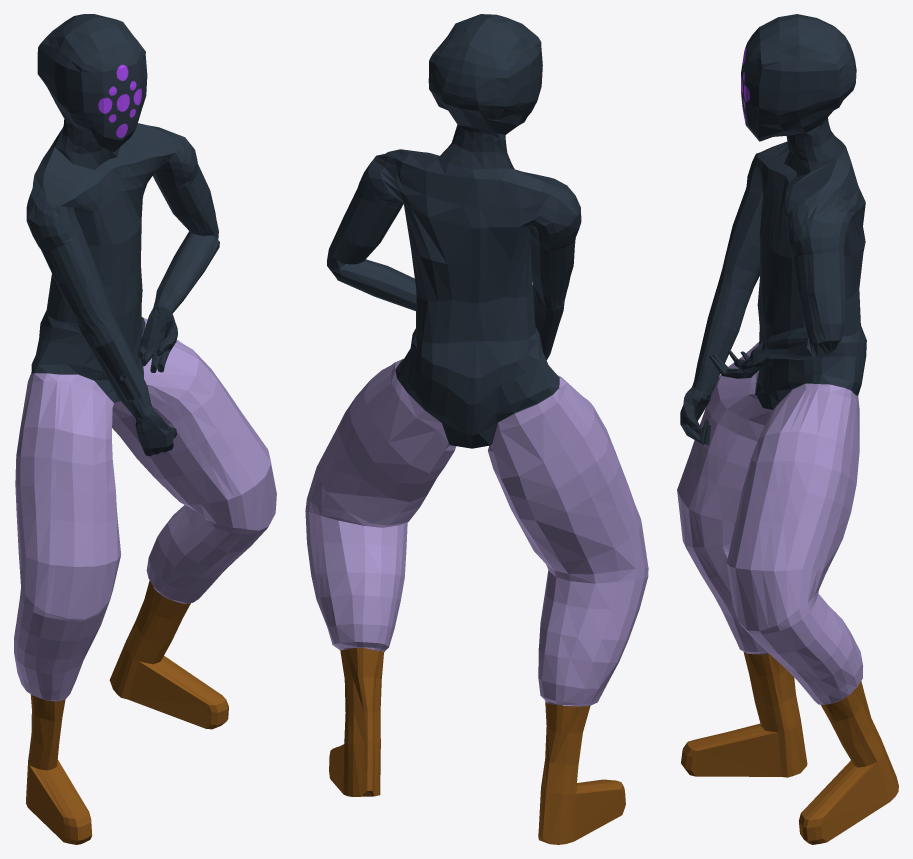
The model's file is Oracle_WL_000010.obj.
The picture shows the model from 3 angles, left to right: view 1: azimuth 30°, elevation 25°; view 2: azimuth 150°, elevation 25°; view 3: azimuth 270°, elevation 25°; orthographic projection. The views are drawn at different scales.
Parts seen in each view (by area): view 1: Cube; view 2: Cube; view 3: Cube.
Boxes of the visible parts, bbox=[...] form: Cube: bbox=[14, 14, 276, 844]; Cube: bbox=[305, 14, 648, 844]; Cube: bbox=[677, 14, 898, 844].
Bounding box in the file's own units: 1.47 × 3.81 × 0.9749.
